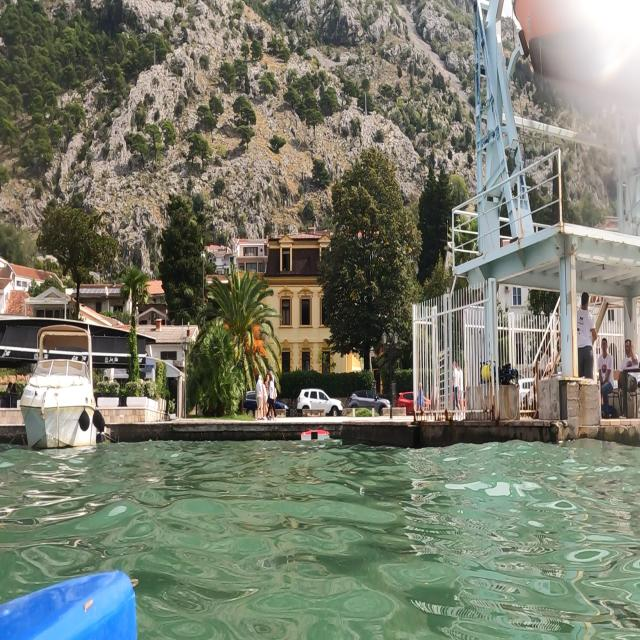boat: (18, 321, 107, 451)
